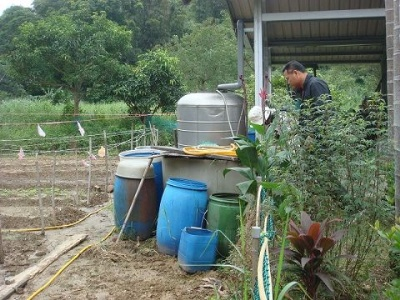bowl: (115, 159, 157, 180)
bucket: (155, 178, 208, 254), (114, 175, 158, 242), (207, 191, 246, 256), (177, 227, 214, 275)
water_tower: (174, 91, 247, 146)
